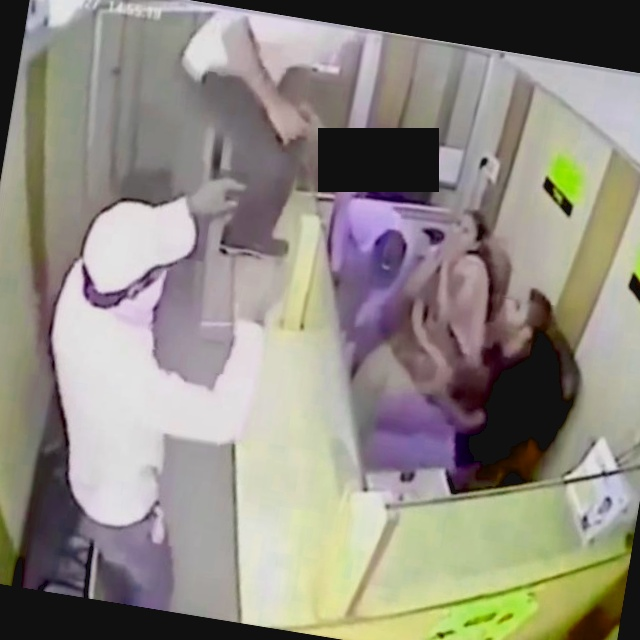gun: (278, 98, 337, 158)
